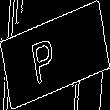P_N: (40, 26, 70, 84)
